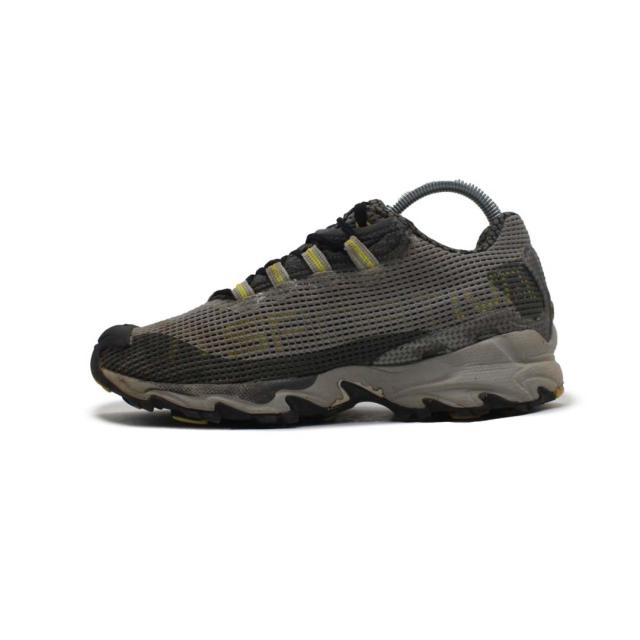heel: (520, 210, 568, 356)
midsole: (92, 357, 573, 426)
uppersole: (85, 199, 526, 362)
